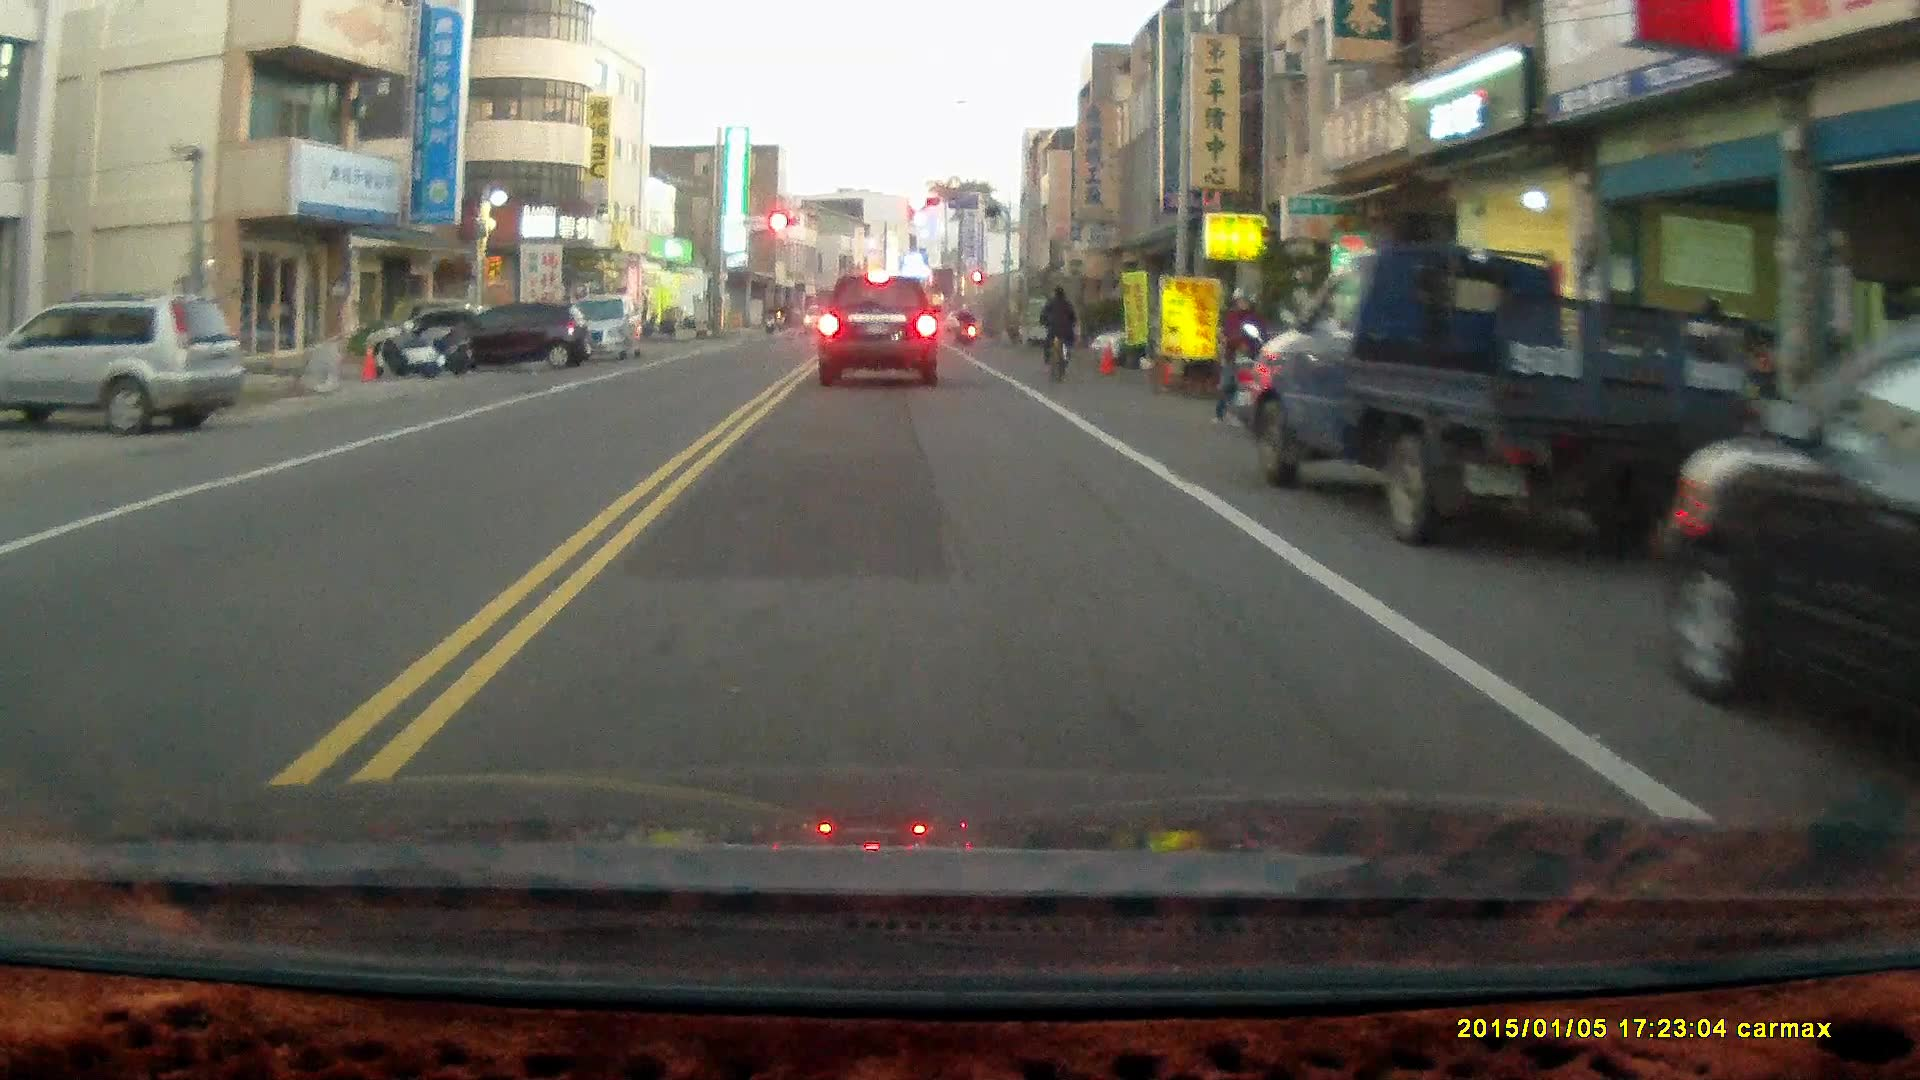pedestrian: (1211, 285, 1262, 430)
rider: (1039, 284, 1078, 385)
vehicle: (1233, 243, 1763, 552), (2, 289, 249, 432), (818, 272, 945, 388), (441, 301, 595, 375), (539, 291, 650, 365)
